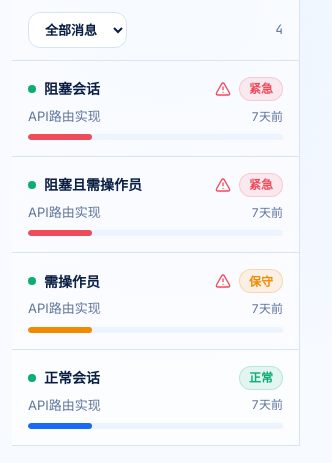
Test: TeamSessionRail filter › shows only blocked sessions when filter is "仅阻塞"
Select "仅阻塞" in the dropdown named "筛选 Session": (78, 30) [28,12,127,48]
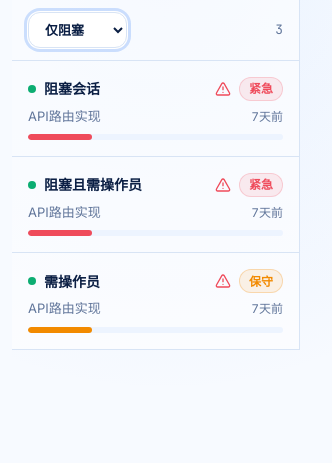
Expected: the text "阻塞会话" is shown, [44,80,100,97]
Expected: the button "正常会话" is gone
